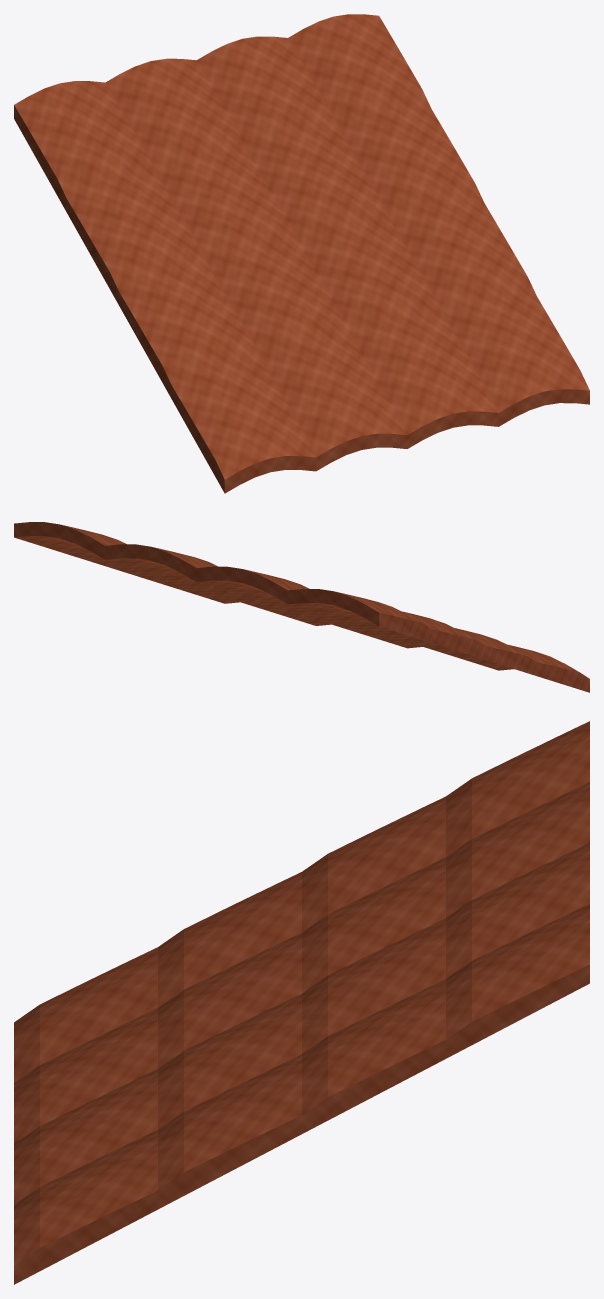
Rendered from MRP_Roof_Panel_1x1m.fbx.
3 views of the same model, one above another, from view 1: azimuth 30°, elevation 25°; view 2: azimuth 150°, elevation 25°; view 3: azimuth 270°, elevation 25° (orthographic). The views are drawn at different scales.
Visible parts, largest first — view 1: Body; view 2: Body; view 3: Body.
Boxes of the visible parts, x1,y1,x2,y2 form: Body: [14, 14, 589, 493]; Body: [14, 522, 589, 692]; Body: [14, 721, 589, 1284].
Bounding box in the file's own units: 1 × 0.6409 × 1.
